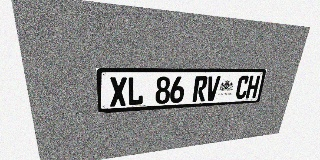6: (170, 76, 186, 103)
8: (155, 76, 171, 104)
C: (235, 76, 250, 99)
H: (245, 76, 260, 99)
L: (127, 77, 144, 106)
R: (192, 76, 208, 102)
V: (205, 76, 221, 101)
X: (109, 77, 127, 107)
